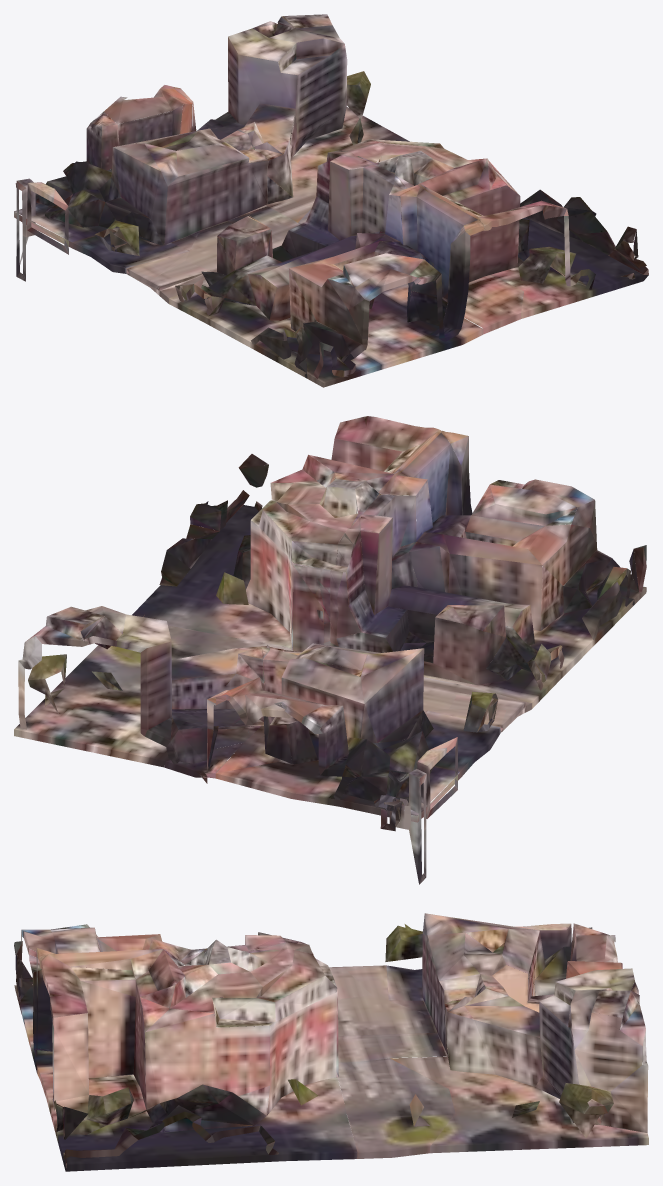
The picture shows the model from 3 angles, top to bottom: view 1: azimuth 30°, elevation 25°; view 2: azimuth 150°, elevation 25°; view 3: azimuth 270°, elevation 25°; orthographic projection. The views are drawn at different scales.
Visible parts, largest first — view 1: Mesh_0; view 2: Mesh_0; view 3: Mesh_0.
Boxes of the visible parts, left/top/right/bottom form: Mesh_0: left=14, top=14, right=648, bottom=387; Mesh_0: left=14, top=416, right=646, bottom=884; Mesh_0: left=14, top=913, right=648, bottom=1171.
Bounding box in the file's own units: 135 × 61.55 × 165.
Materials: 2 (2 with a texture image).
